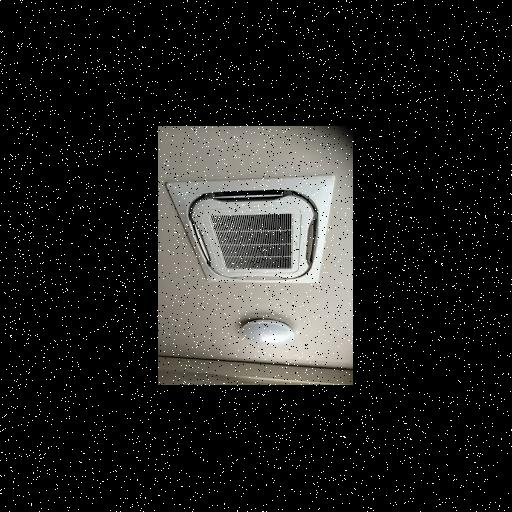4-way-ac: (166, 175, 336, 284)
